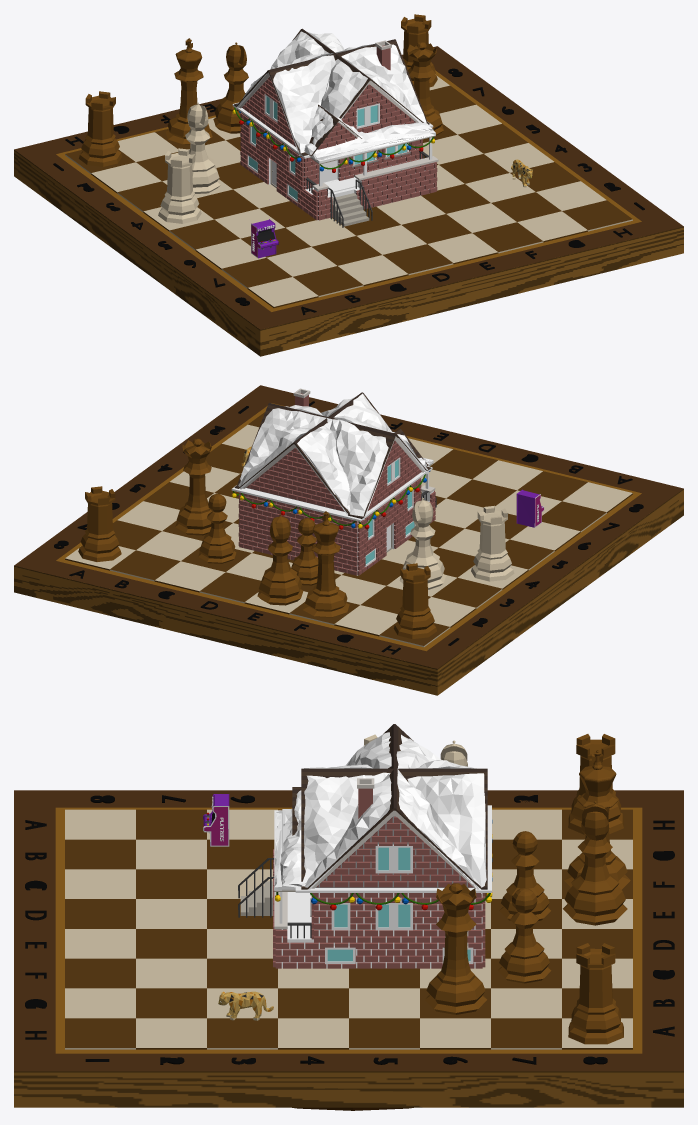
3 views of the same model, one above another, from view 1: azimuth 30°, elevation 25°; view 2: azimuth 150°, elevation 25°; view 3: azimuth 270°, elevation 25° (orthographic). The views are drawn at different scales.
Parts seen in each view (by area): view 1: Cube.002, Cube.1419, OBJRANDOM_ARCADE; view 2: Cube.002, Cube.1419, OBJRANDOM_ARCADE; view 3: Cube.002, Cube.1419, OBJRANDOM_ARCADE, ANIMAL_JAGUAR.
Part boxes in pixels (<box>): Cube.002: <box>14,14,683,356</box>; Cube.1419: <box>232,28,438,227</box>; OBJRANDOM_ARCADE: <box>251,219,278,258</box>; Cube.002: <box>14,385,683,695</box>; Cube.1419: <box>231,388,436,575</box>; OBJRANDOM_ARCADE: <box>516,489,544,527</box>; Cube.002: <box>14,734,683,1107</box>; Cube.1419: <box>238,724,492,968</box>; OBJRANDOM_ARCADE: <box>203,794,229,846</box>; ANIMAL_JAGUAR: <box>218,991,273,1020</box>.
Size of the model in its own units: 3981 by 1551 by 4012.
Materials: 42 (2 with a texture image).
